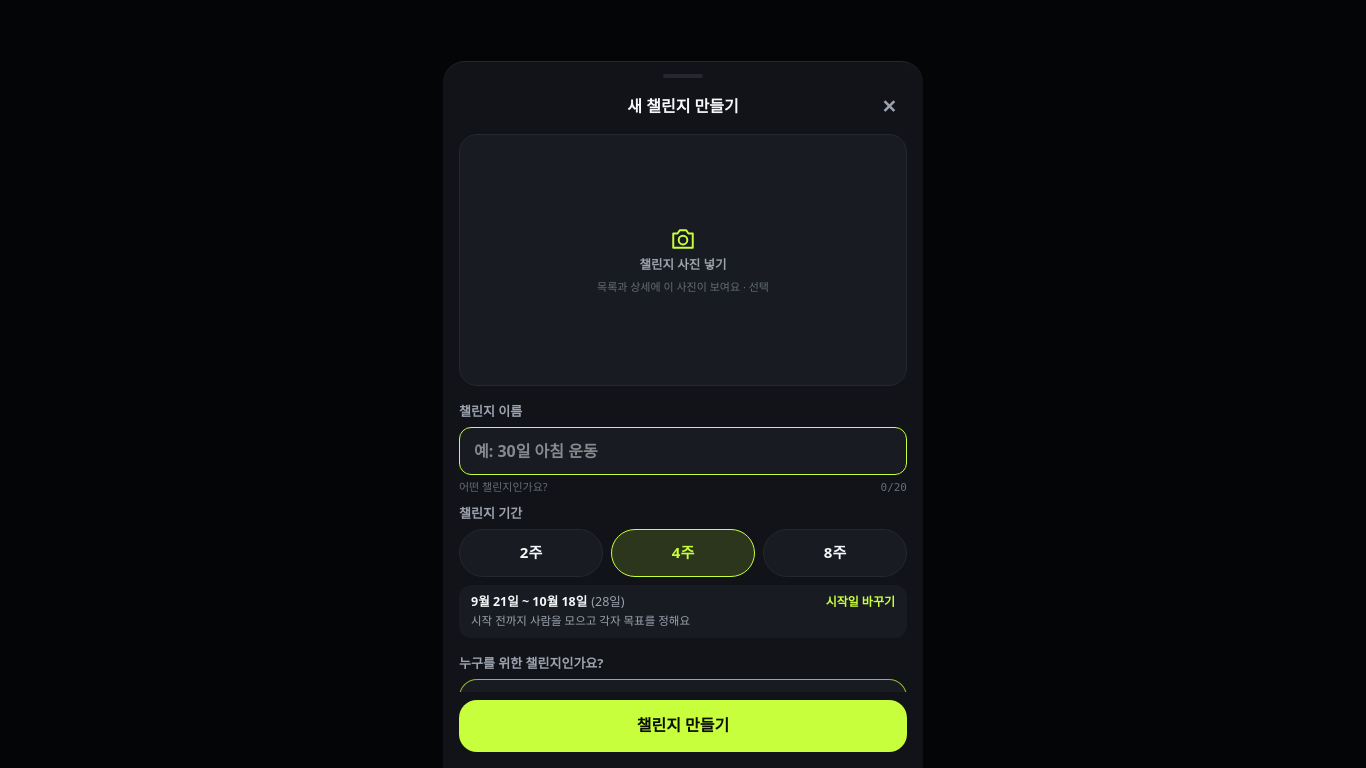
it: 입력 — 이름 · 기간 · 누구와, 셋뿐이다 › 이름이 없으면 막고, 경고는 스크롤 밖·버튼 옆에 뜬다
Click the button "챌린지 만들기". click: (683, 726)
box: 459,700 -> 907,752
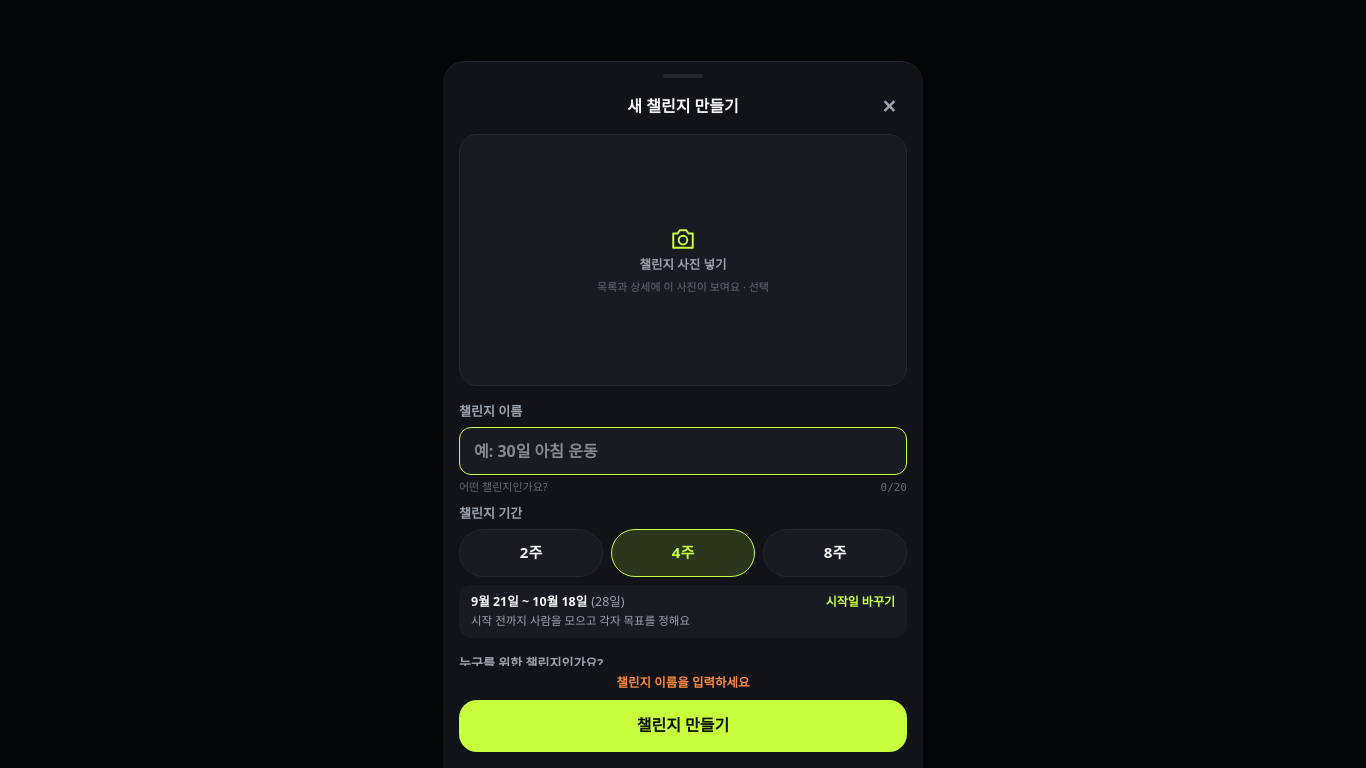
Check: the message reads "챌린지 이름을 입력하세요", box 616,674 -> 750,691
